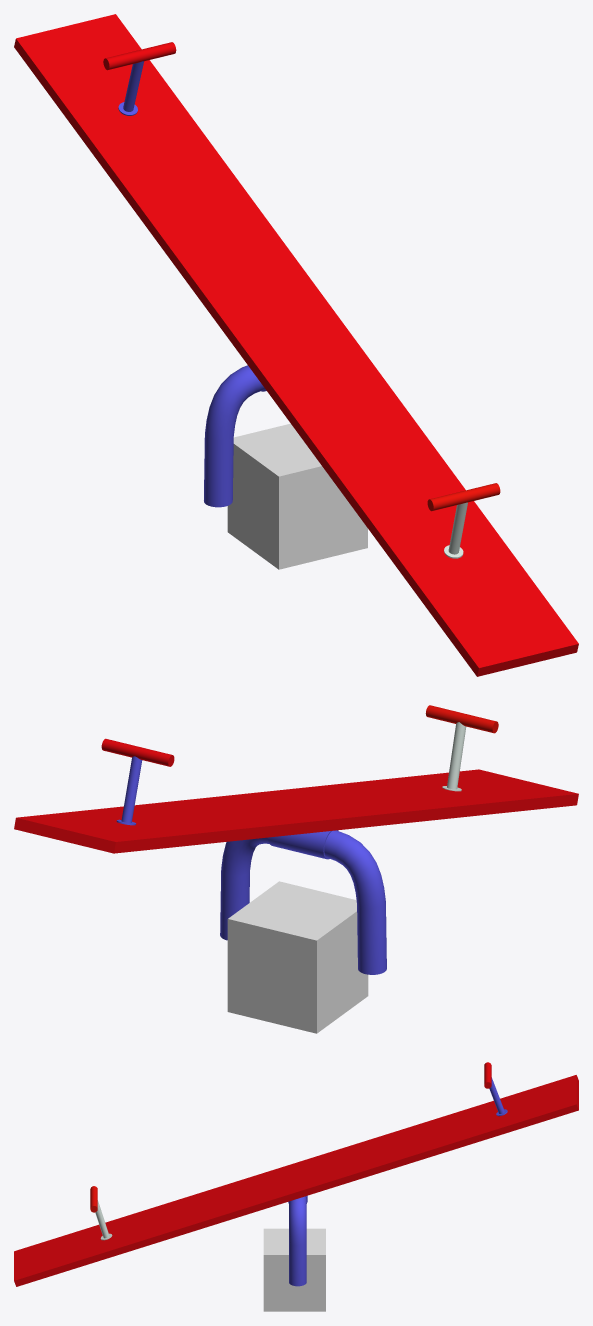
The picture shows the model from 3 angles, top to bottom: view 1: azimuth 30°, elevation 25°; view 2: azimuth 150°, elevation 25°; view 3: azimuth 270°, elevation 25°; orthographic projection. The views are drawn at different scales.
Visible parts, largest first — view 1: Board, Cube, Frame, LHandlePt1, RHandlePt1; view 2: Board, Cube, Frame, RHandlePt1, LHandlePt1, RHandlePt2, LHandlePt2; view 3: Board, Cube, Frame.
Boxes of the visible parts, x1=… form: Board: x1=14, y1=14, x2=578, y2=676; Cube: x1=227, y1=423, x2=367, y2=569; Frame: x1=204, y1=365, x2=266, y2=507; LHandlePt1: x1=427, y1=483, x2=500, y2=511; RHandlePt1: x1=103, y1=42, x2=176, y2=70; Board: x1=14, y1=769, x2=578, y2=853; Cube: x1=227, y1=881, x2=368, y2=1033; Frame: x1=220, y1=830, x2=386, y2=974; RHandlePt1: x1=101, y1=738, x2=174, y2=766; LHandlePt1: x1=425, y1=705, x2=498, y2=733; RHandlePt2: x1=116, y1=756, x2=142, y2=825; LHandlePt2: x1=442, y1=722, x2=466, y2=791; Board: x1=14, y1=1075, x2=578, y2=1286; Cube: x1=263, y1=1228, x2=325, y2=1311; Frame: x1=288, y1=1195, x2=307, y2=1286.
Bounding box in the file's own units: 3.66 × 8 × 18.1.
